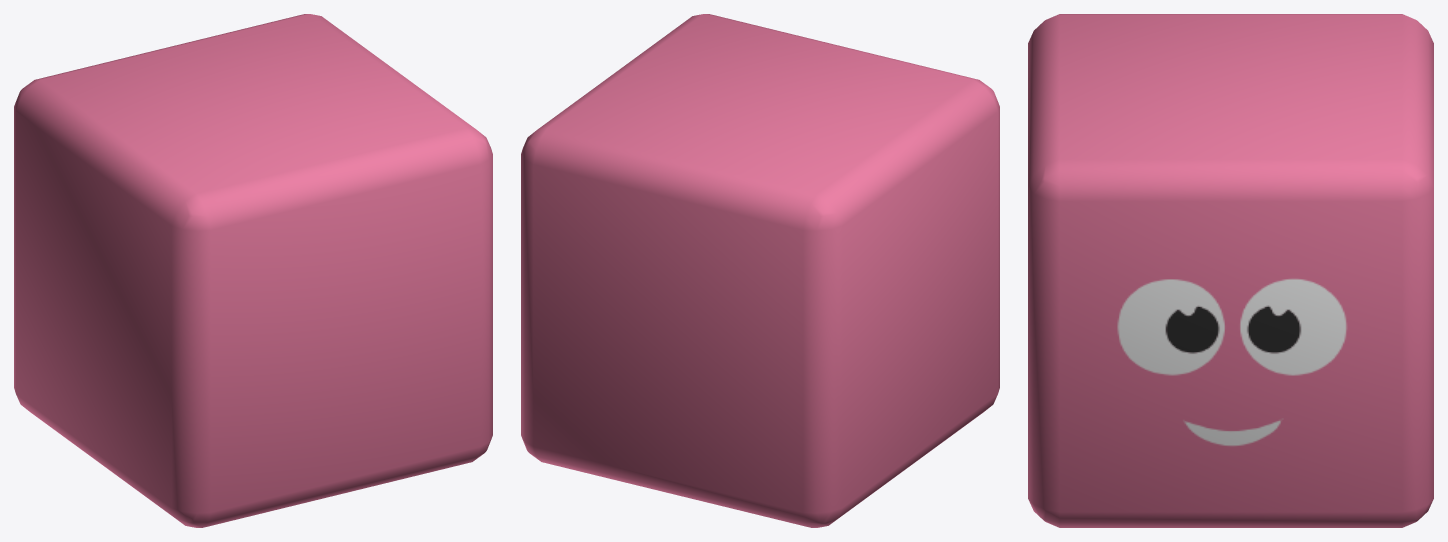
The model's file is sena küp.fbx.
3 views of the same model, side by side, from view 1: azimuth 30°, elevation 25°; view 2: azimuth 150°, elevation 25°; view 3: azimuth 270°, elevation 25° (orthographic). The views are drawn at different scales.
Visible parts, largest first — view 1: Cube; view 2: Cube; view 3: Cube.
Part boxes in pixels (left/top/right/bottom): Cube: left=14, top=14, right=492, bottom=527; Cube: left=521, top=14, right=999, bottom=527; Cube: left=1028, top=14, right=1433, bottom=527.
Bounding box in the file's own units: 5 × 5 × 5.
Materials: 1 (1 with a texture image).
